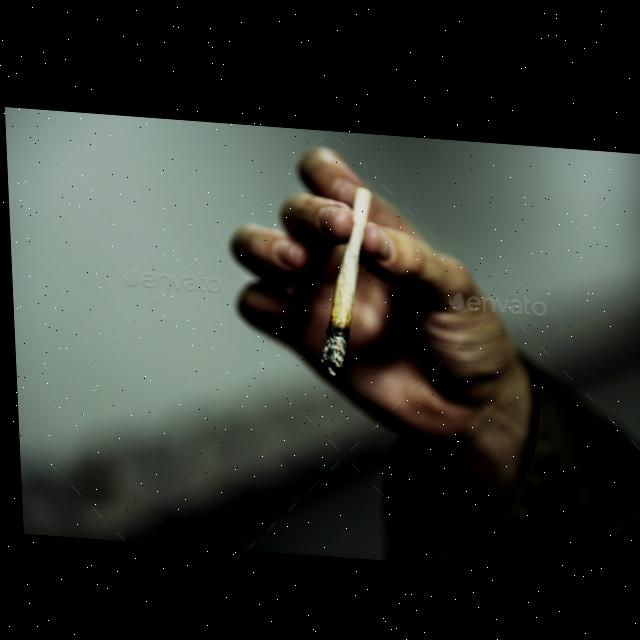cigarette: (310, 178, 378, 375)
